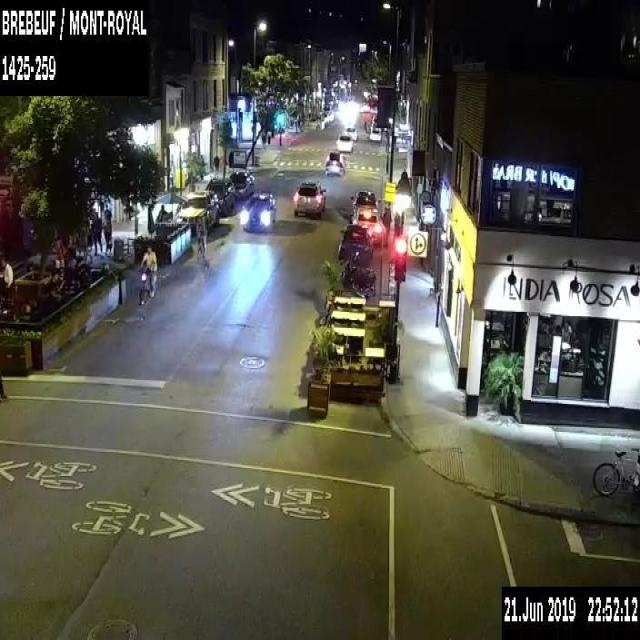cyclist: (136, 245, 158, 307), (196, 213, 207, 261)
pedestrian: (102, 208, 112, 254), (381, 206, 392, 246), (92, 205, 100, 256), (394, 210, 403, 242), (155, 205, 170, 223), (0, 377, 7, 398), (212, 152, 218, 176)
vehicle: (177, 189, 219, 232), (337, 222, 375, 262), (338, 259, 380, 292), (240, 192, 275, 231), (292, 177, 325, 216), (202, 178, 234, 215), (352, 208, 384, 244), (352, 188, 379, 223), (227, 168, 253, 199), (324, 150, 346, 176), (334, 132, 355, 152), (342, 126, 357, 141), (369, 126, 381, 140)
